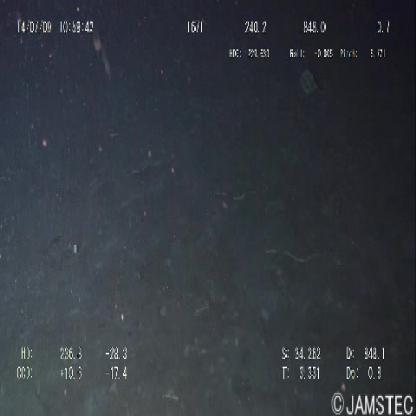Rác: (302, 70, 318, 96)
